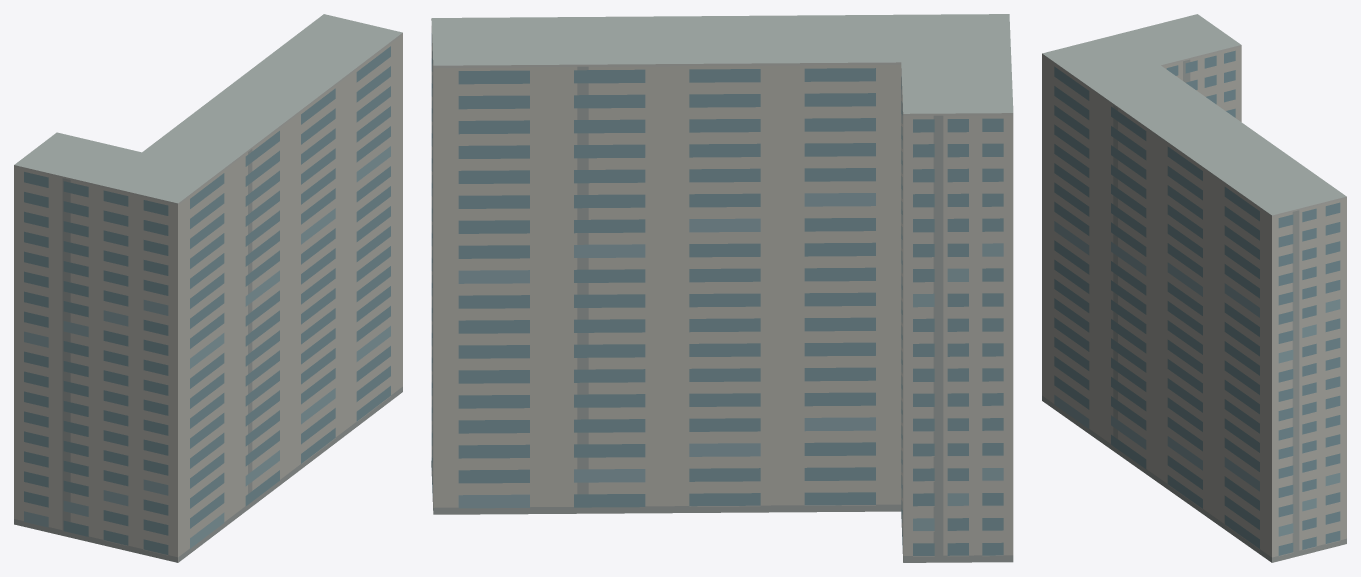
The model's file is residential-2c6b3291-2030-4f77-bb47-58058722b8b6.glb.
3 views of the same model, side by side, from view 1: azimuth 30°, elevation 25°; view 2: azimuth 150°, elevation 25°; view 3: azimuth 270°, elevation 25° (orthographic). The views are drawn at different scales.
Parts seen in each view (by area): view 1: residential-2c6b3291-2030-4f77-bb47-58058722b8b6.tmp; view 2: residential-2c6b3291-2030-4f77-bb47-58058722b8b6.tmp; view 3: residential-2c6b3291-2030-4f77-bb47-58058722b8b6.tmp.
Part boxes in pixels (box(x1,y1,x2,y2)): residential-2c6b3291-2030-4f77-bb47-58058722b8b6.tmp: box(14, 14, 402, 562); residential-2c6b3291-2030-4f77-bb47-58058722b8b6.tmp: box(431, 14, 1013, 562); residential-2c6b3291-2030-4f77-bb47-58058722b8b6.tmp: box(1042, 14, 1346, 562).
Bounding box in the file's own units: 64.7 × 52 × 41.35.
